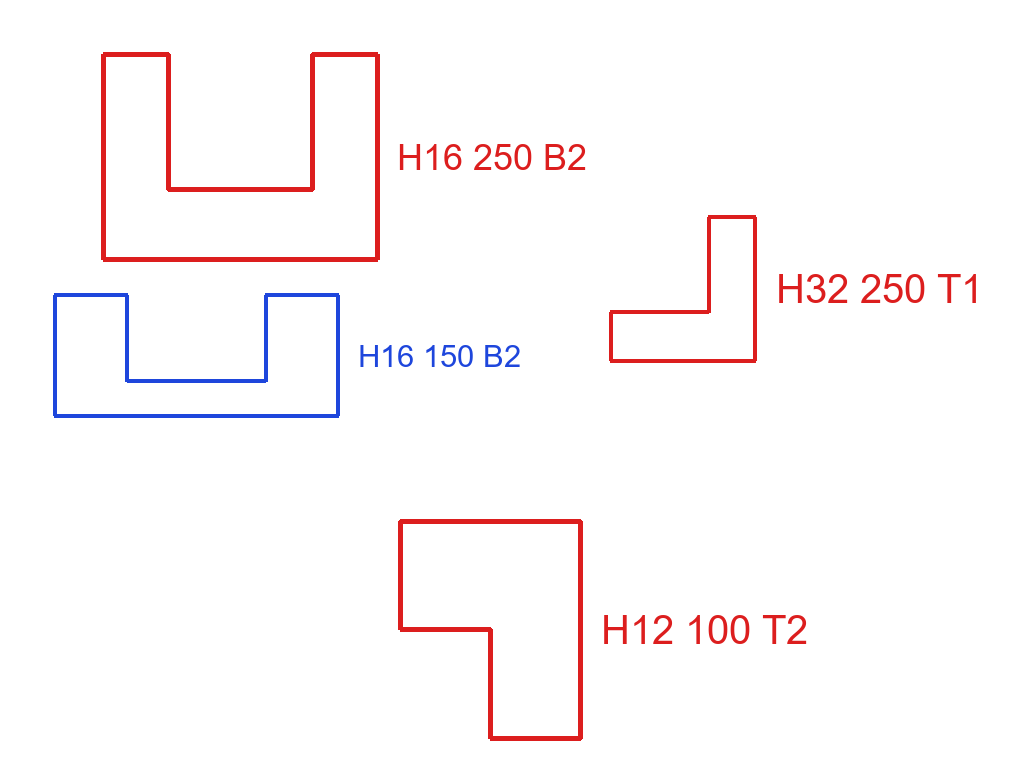shape: (99, 50, 382, 264), (396, 517, 585, 743), (51, 292, 342, 419), (606, 213, 760, 364)
text: (599, 613, 810, 646), (774, 272, 985, 305), (395, 142, 589, 172), (356, 343, 523, 369)
